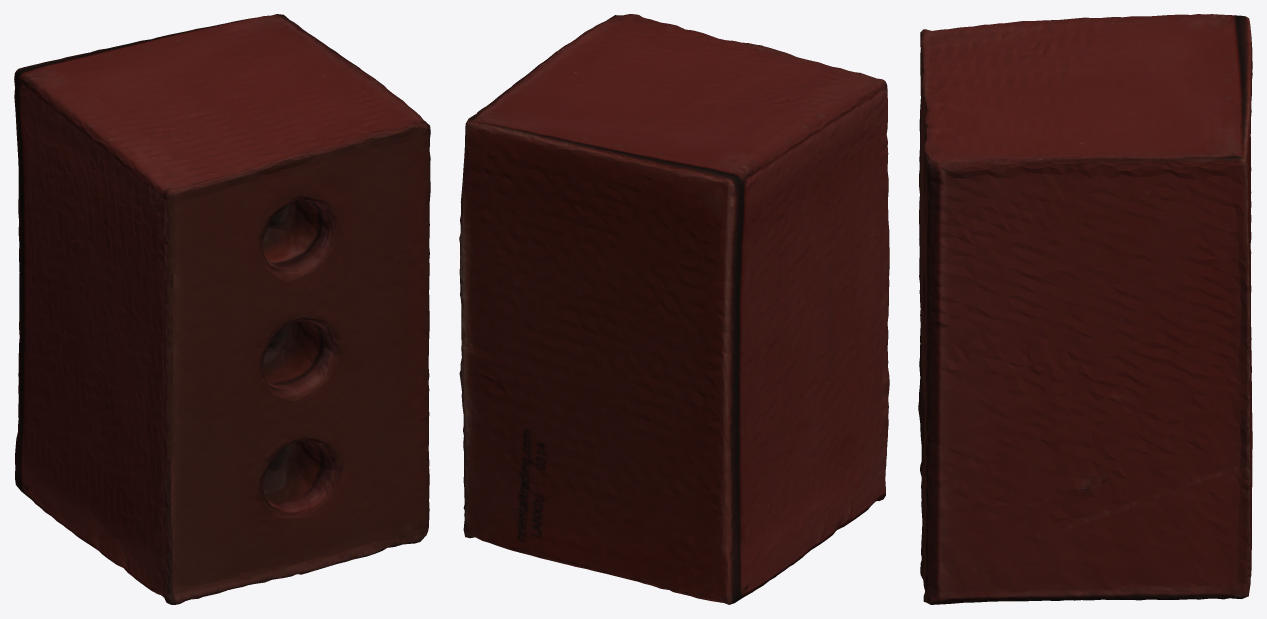
The model's file is foam_brick.glb.
The picture shows the model from 3 angles, left to right: view 1: azimuth 30°, elevation 25°; view 2: azimuth 150°, elevation 25°; view 3: azimuth 270°, elevation 25°; orthographic projection. The views are drawn at different scales.
Parts seen in each view (by area): view 1: textured.obj; view 2: textured.obj; view 3: textured.obj.
Part boxes in pixels (left/top/right/bottom): textured.obj: left=14, top=14, right=430, bottom=604; textured.obj: left=459, top=14, right=889, bottom=604; textured.obj: left=918, top=14, right=1252, bottom=604.
Bounding box in the file's own units: 0.0519 × 0.0775 × 0.0512.
Materials: 1 (1 with a texture image).
